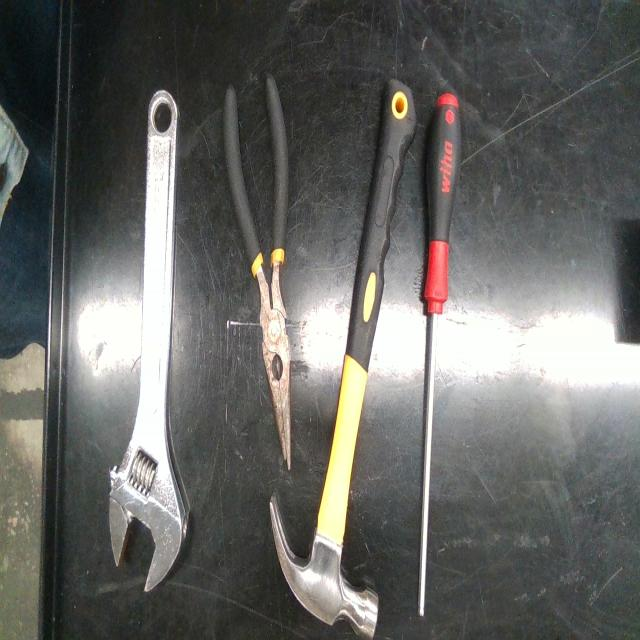Screwdriver: (418, 93, 461, 614)
